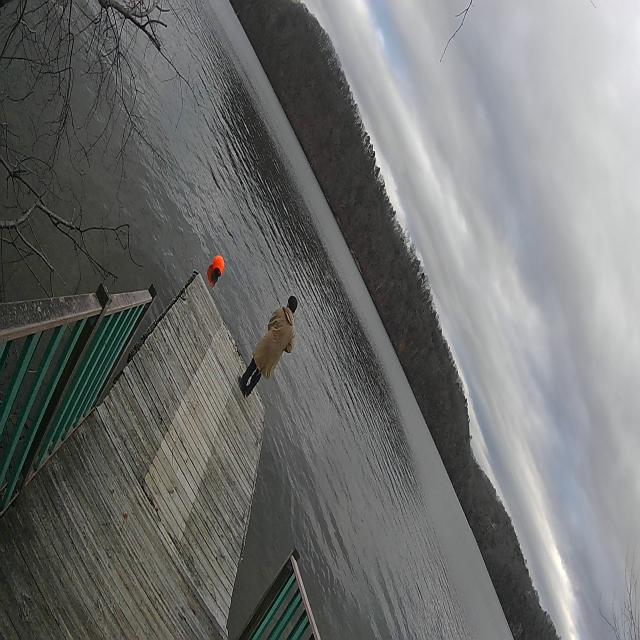Buoy: (210, 250, 226, 284)
